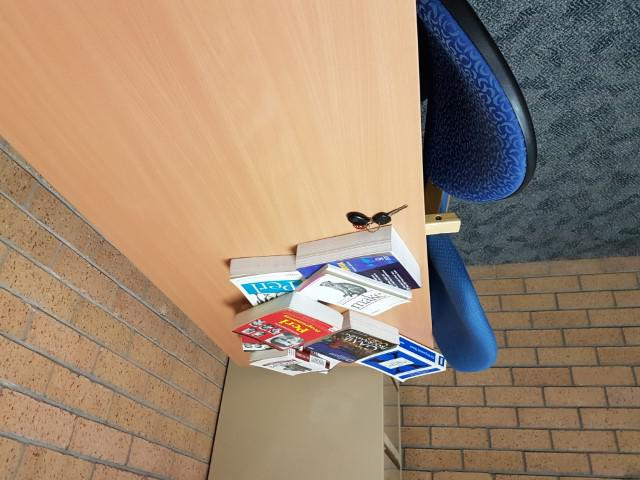key: (371, 202, 410, 226)
